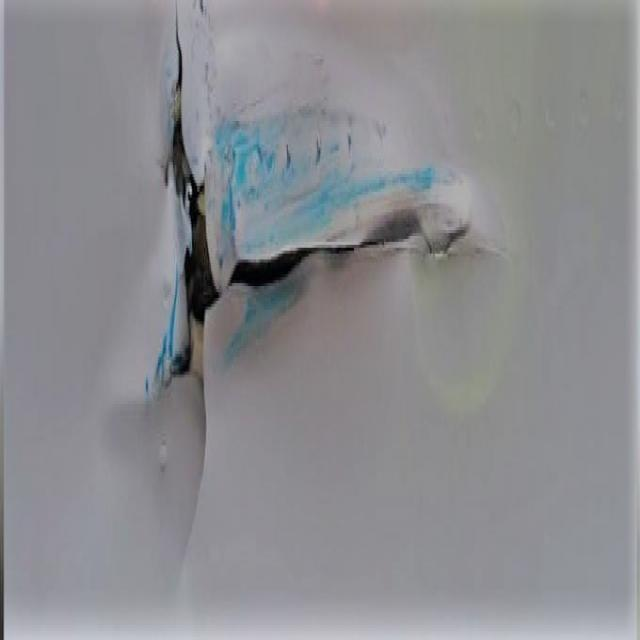crack: (105, 24, 497, 532)
